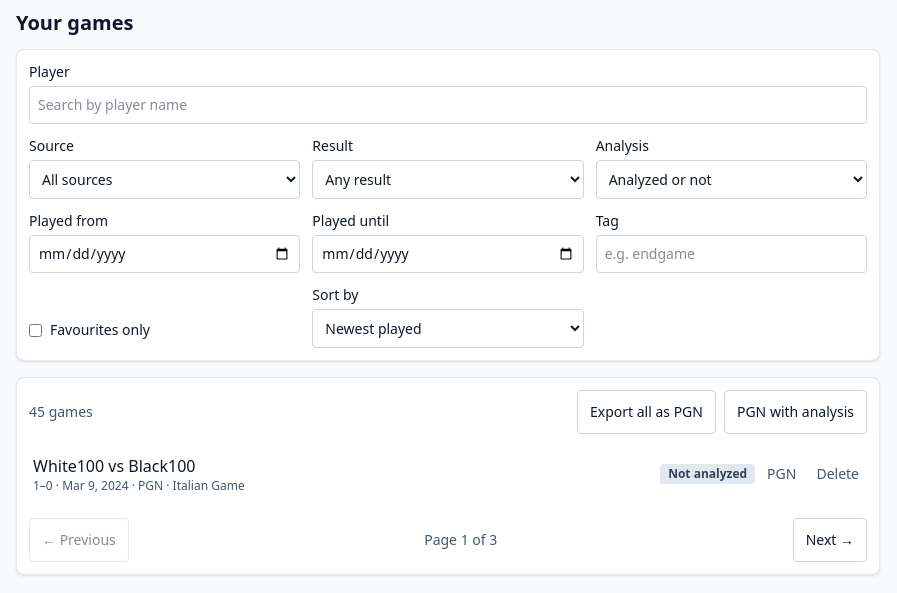
Test: pages › shows the page number and moves between pages
Expected: the text "White100 vs Black100" is shown, [33,455,196,477]
Expected: the text with test id "page-info" reads "Page 1 of 3", [424,530,497,550]
What coordinates should you click on to do the following:
click the button "Next →"
I would click on:
 (830, 540)
Its box is [793,518,867,562].
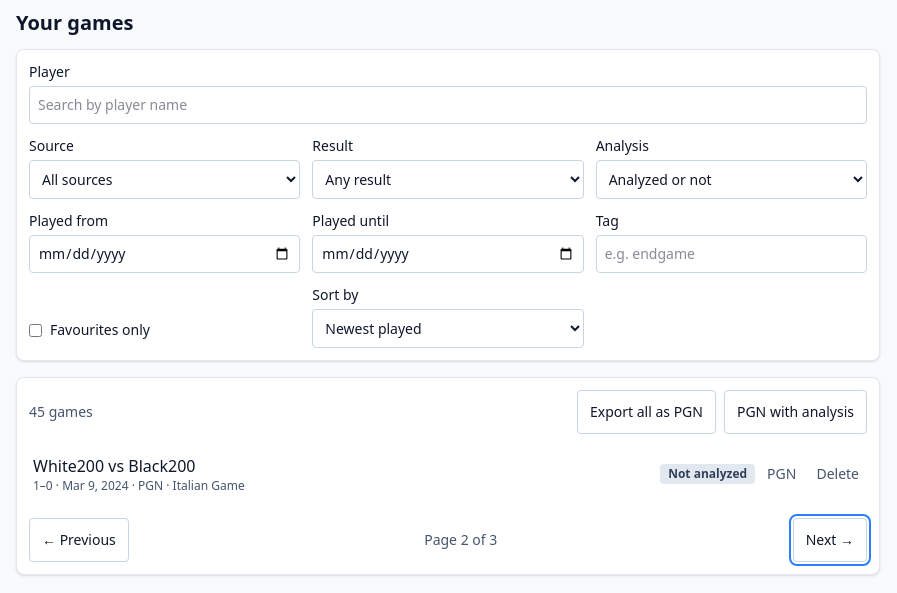
Expected: the text "White200 vs Black200" is shown, [33,455,196,477]
Expected: the text with test id "page-info" reads "Page 2 of 3", [424,530,497,550]
What coordinates should you click on to do the following:
click the button "Next →"
I would click on:
 (830, 540)
Its box is [793,518,867,562].
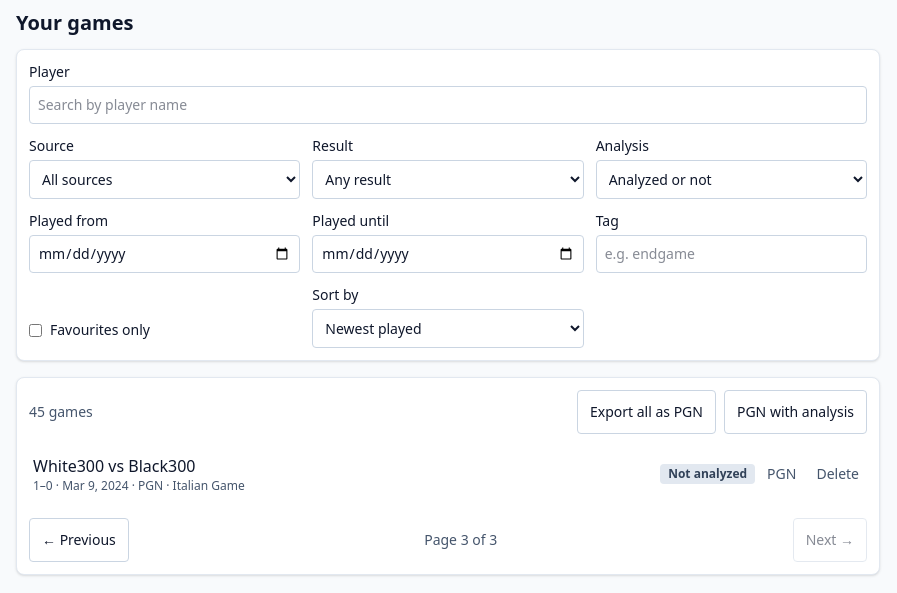
Expected: the text "White300 vs Black300" is shown, [33,455,196,477]
Expected: the button "Next →" is disabled, [793,518,867,562]
